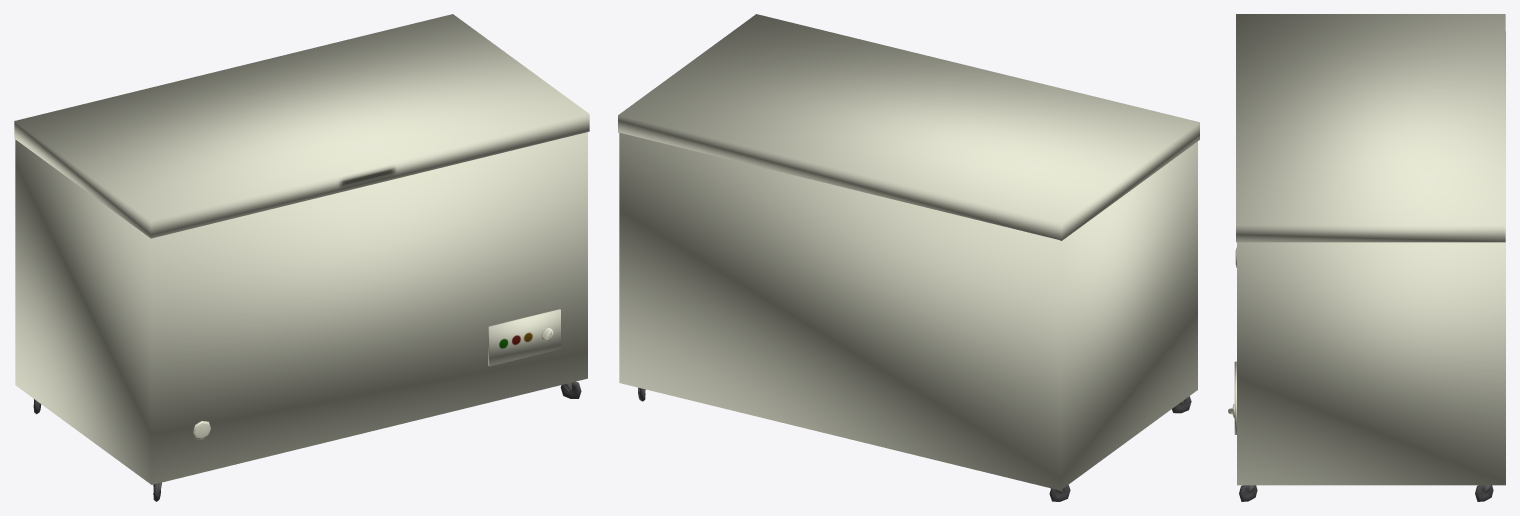
Rendered from Cockpit_Freezer.fbx.
3 renders of one model, left to right at view 1: azimuth 30°, elevation 25°; view 2: azimuth 150°, elevation 25°; view 3: azimuth 270°, elevation 25°, orthographic. The views are drawn at different scales.
Parts seen in each view (by area): view 1: Cockpit_Freezer_Down, Cockpit_Freezer_Up; view 2: Cockpit_Freezer_Down, Cockpit_Freezer_Up; view 3: Cockpit_Freezer_Down, Cockpit_Freezer_Up.
Part boxes in pixels (x1,y1,x2,y2): Cockpit_Freezer_Down: (15,132,587,501); Cockpit_Freezer_Up: (14,14,589,238); Cockpit_Freezer_Down: (619,132,1197,501); Cockpit_Freezer_Up: (618,14,1199,240); Cockpit_Freezer_Down: (1228,31,1505,501); Cockpit_Freezer_Up: (1236,14,1505,242).
Bounding box in the file's own units: 162 × 101 × 89.95.
1 material, 1 textured.
